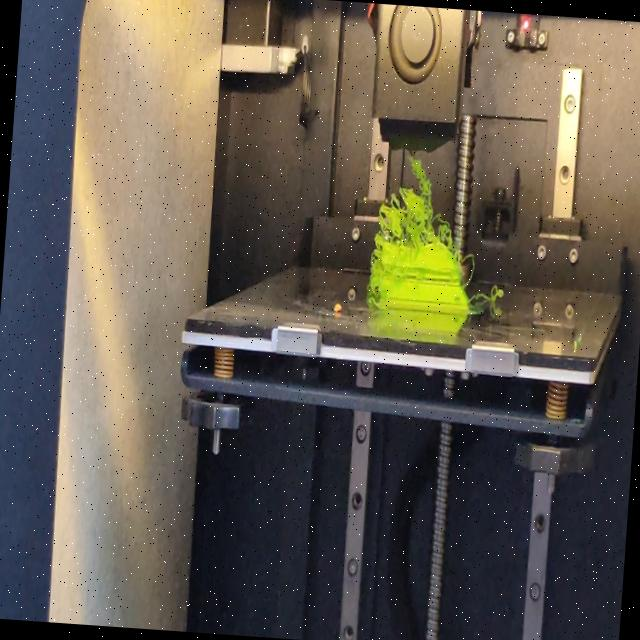spaghetti: (375, 152, 464, 250), (472, 282, 507, 306), (461, 251, 476, 288), (368, 286, 379, 308)
